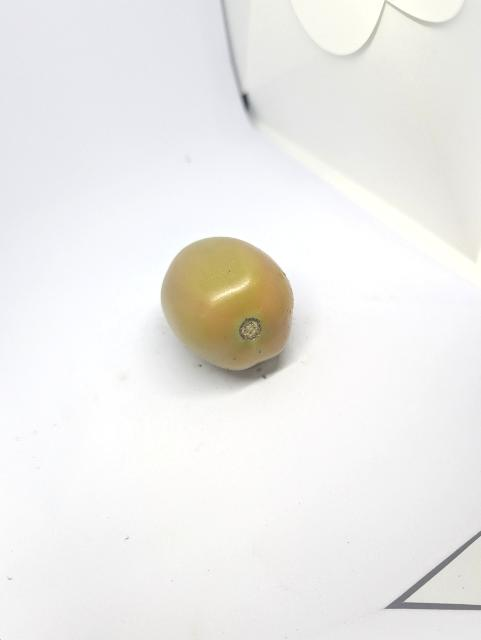breaker: (160, 232, 299, 375)
